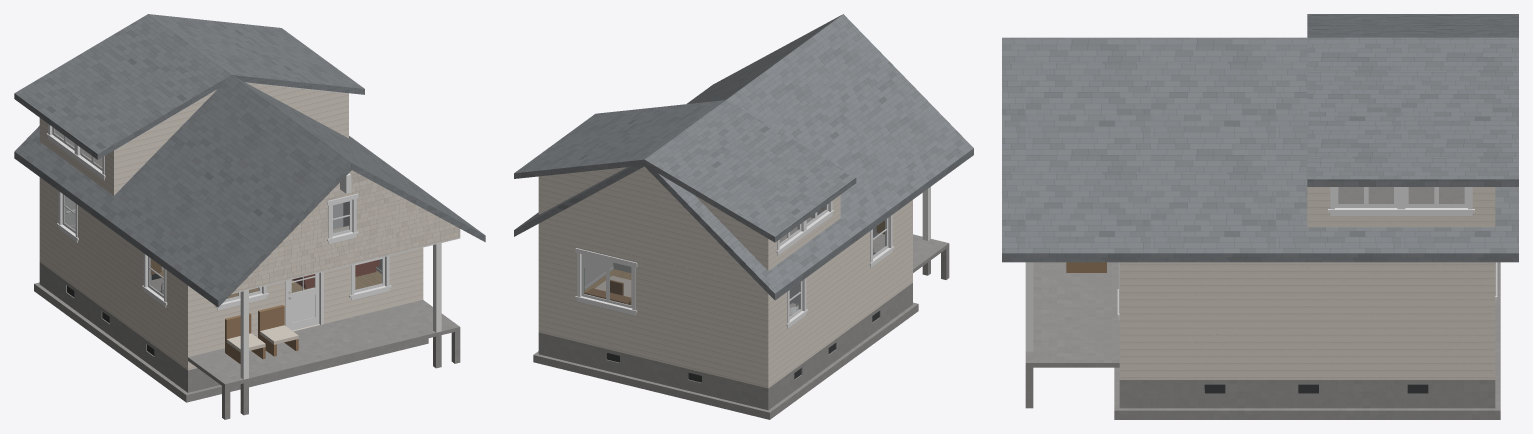
Rendered from barn_cabin_524_lod0.glb.
The picture shows the model from 3 angles, left to right: view 1: azimuth 30°, elevation 25°; view 2: azimuth 150°, elevation 25°; view 3: azimuth 270°, elevation 25°; orthographic projection. The views are drawn at different scales.
Visible parts, largest first — view 1: Roof_main, Roof_dormer_W, Gable_S_porch, Wall_W, Porch_slab, Roof_dormer_E, Wall_S, Found_stemwall, Found_footing, Trim_ext, Dormer_cheek_W, Dormer_cheek_E (+12 smaller); view 2: Roof_main, Wall_N, Roof_dormer_W, Gable_N, Wall_W, Found_stemwall, Roof_dormer_E, Found_rim, Found_footing, Trim_ext, Glazing_W-BED-EGRESS, Dormer_face_W (+4 smaller); view 3: Roof_main, Wall_E, Roof_dormer_E, Found_stemwall, Porch_slab, Found_rim, Found_footing, Roof_dormer_W, Dormer_face_E, Floor_loft, Trim_ext, Glazing_W-LOFT-1_E (+5 smaller).
Boxes of the visible parts, left/top/right/bottom form: Roof_main: left=14, top=75, right=485, bottom=307; Roof_dormer_W: left=14, top=14, right=230, bottom=159; Gable_S_porch: left=233, top=170, right=460, bottom=292; Wall_W: left=42, top=179, right=184, bottom=354; Porch_slab: left=188, top=300, right=460, bottom=387; Roof_dormer_E: left=148, top=14, right=364, bottom=94; Wall_S: left=185, top=226, right=423, bottom=356; Found_stemwall: left=39, top=262, right=220, bottom=392; Found_footing: left=34, top=282, right=428, bottom=402; Trim_ext: left=46, top=124, right=391, bottom=327; Dormer_cheek_W: left=111, top=91, right=215, bottom=195; Dormer_cheek_E: left=247, top=83, right=348, bottom=138; Roof_main: left=514, top=14, right=973, bottom=300; Wall_N: left=538, top=232, right=771, bottom=375; Roof_dormer_W: left=644, top=100, right=856, bottom=242; Gable_N: left=538, top=166, right=771, bottom=286; Wall_W: left=771, top=202, right=910, bottom=372; Found_stemwall: left=538, top=283, right=912, bottom=410; Roof_dormer_E: left=514, top=100, right=725, bottom=178; Found_rim: left=538, top=270, right=912, bottom=388; Found_footing: left=533, top=302, right=918, bottom=419; Trim_ext: left=575, top=201, right=894, bottom=328; Glazing_W-BED-EGRESS: left=584, top=255, right=630, bottom=305; Dormer_face_W: left=763, top=196, right=839, bottom=269; Roof_main: left=1002, top=37, right=1518, bottom=262; Wall_E: left=1126, top=262, right=1488, bottom=362; Roof_dormer_E: left=1307, top=37, right=1518, bottom=186; Found_stemwall: left=1119, top=380, right=1495, bottom=408; Porch_slab: left=1025, top=262, right=1119, bottom=367; Found_rim: left=1119, top=363, right=1495, bottom=379; Found_footing: left=1114, top=262, right=1500, bottom=419; Roof_dormer_W: left=1307, top=14, right=1518, bottom=37; Dormer_face_E: left=1307, top=187, right=1495, bottom=227; Floor_loft: left=1338, top=187, right=1464, bottom=203; Trim_ext: left=1117, top=187, right=1497, bottom=320; Glazing_W-LOFT-1_E: left=1409, top=187, right=1464, bottom=204.
Size of the model in its own units: 7.62 by 6.6 by 10.06.
Materials: 28 (9 with a texture image).
